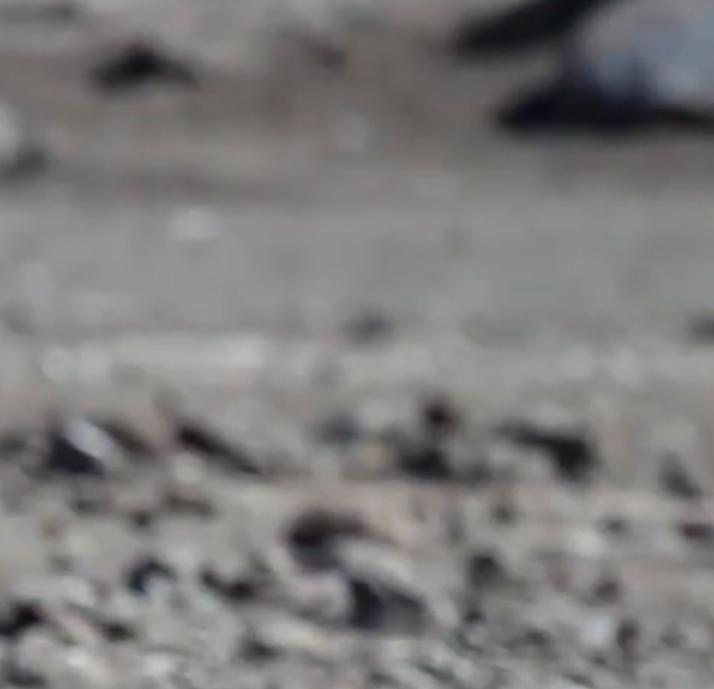Chinstrap Penguin: (0, 168, 73, 689)
